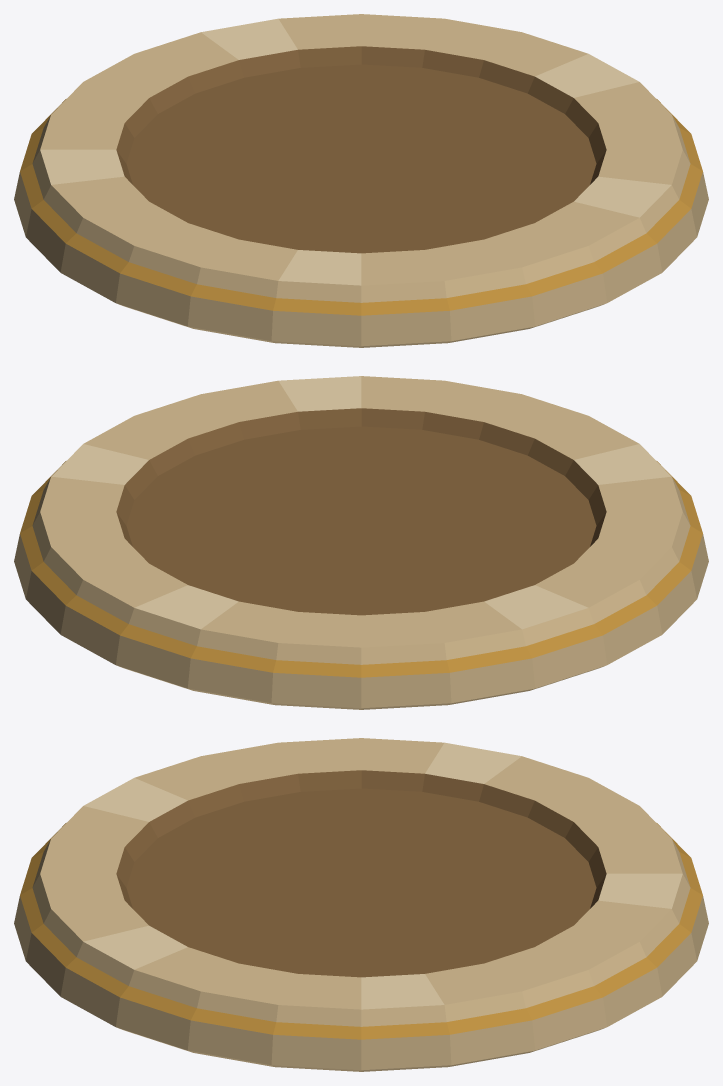
File: SunnyLoop_Space_Base_v1.fbx
3 views of the same model, one above another, from view 1: azimuth 30°, elevation 25°; view 2: azimuth 150°, elevation 25°; view 3: azimuth 270°, elevation 25° (orthographic).
Parts seen in each view (by area): view 1: SunnyLoop_Space_Base_v1; view 2: SunnyLoop_Space_Base_v1; view 3: SunnyLoop_Space_Base_v1.
Part boxes in pixels (x1,y1,x2,y2): SunnyLoop_Space_Base_v1: (14, 14, 708, 347); SunnyLoop_Space_Base_v1: (14, 376, 708, 709); SunnyLoop_Space_Base_v1: (14, 738, 708, 1071).
Size of the model in its own units: 3.27 by 0.3136 by 3.27.
1 material, 1 textured.
